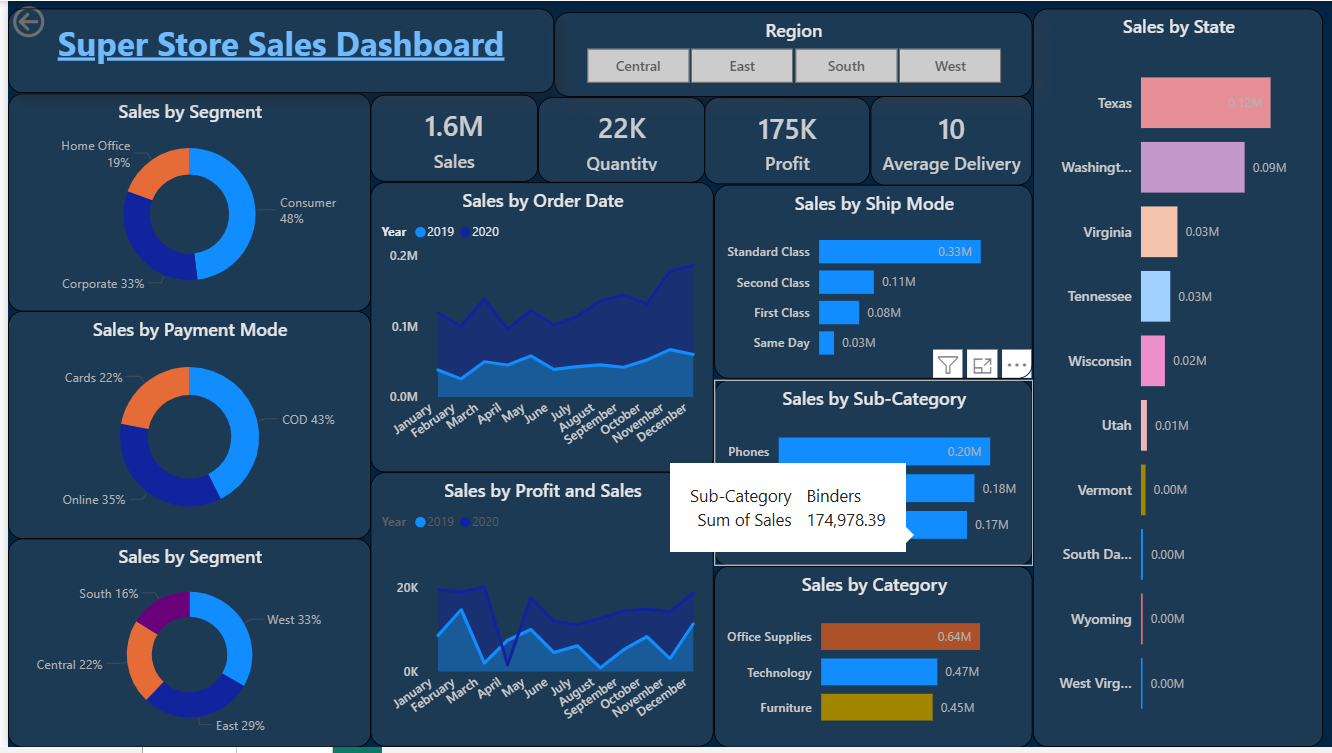

The page's visual inventory and layout, read from the dashboard file:
{"tool":"powerbi","page":{"name":"Page 1","canvas":[1280,720],"ordinal":0},"visuals":[{"type":"clusteredBarChart","title":"Sales by Category","fields":{"Category":["SuperStore_Sales_Dataset.Category"],"Y":["Sum(SuperStore_Sales_Dataset.Sales)"]},"box":[681.2,545,307.5,175],"z":0},{"type":"clusteredBarChart","title":"Sales by Sub-Category","fields":{"Y":["Sum(SuperStore_Sales_Dataset.Sales)"],"Category":["SuperStore_Sales_Dataset.Sub-Category"]},"box":[681.2,365,307.5,180],"z":1000},{"type":"clusteredBarChart","title":"Sales by Ship Mode","fields":{"Y":["Sum(SuperStore_Sales_Dataset.Sales)"],"Category":["SuperStore_Sales_Dataset.Ship Mode"]},"box":[681.2,177.5,307.5,187.5],"z":2000},{"type":"stackedAreaChart","title":"Sales by Order Date","fields":{"Y":["Sum(SuperStore_Sales_Dataset.Sales)"],"Category":["SuperStore_Sales_Dataset.Order Date.Variation.Date Hierarchy.Month"],"Series":["SuperStore_Sales_Dataset.Order Date.Variation.Date Hierarchy.Year"]},"box":[350,175,331.2,280],"z":3000},{"type":"stackedAreaChart","title":"Sales by Profit and Sales","fields":{"Y":["Sum(SuperStore_Sales_Dataset.Profit)"],"Category":["SuperStore_Sales_Dataset.Order Date.Variation.Date Hierarchy.Month","SuperStore_Sales_Dataset.Order Date.Variation.Date Hierarchy.Day"],"Series":["SuperStore_Sales_Dataset.Order Date.Variation.Date Hierarchy.Year"]},"box":[350,455,331.2,265],"z":4000},{"type":"actionButton","box":[0,0,100,40],"z":5000},{"type":"donutChart","title":"Sales by Segment","fields":{"Category":["SuperStore_Sales_Dataset.Segment"],"Y":["Sum(SuperStore_Sales_Dataset.Sales)"]},"box":[0,88.8,350,210],"z":6000},{"type":"donutChart","title":"Sales by Payment Mode","fields":{"Category":["SuperStore_Sales_Dataset.Payment Mode"],"Y":["Sum(SuperStore_Sales_Dataset.Sales)"]},"box":[0,298.8,350,220],"z":7000},{"type":"donutChart","title":"Sales by Segment","fields":{"Y":["Sum(SuperStore_Sales_Dataset.Sales)"],"Category":["SuperStore_Sales_Dataset.Region"]},"box":[0,518.8,350,201.2],"z":8000},{"type":"slicer","title":"Region","fields":{"Values":["SuperStore_Sales_Dataset.Region"]},"box":[527.5,11.2,461.2,81.2],"z":9000},{"type":"textbox","box":[0,7.5,527.5,81.2],"z":10000},{"type":"card","fields":{"Values":["Sum(SuperStore_Sales_Dataset.Sales)"]},"box":[350,90,161.2,83.8],"z":11000},{"type":"card","fields":{"Values":["Sum(SuperStore_Sales_Dataset.Quantity)"]},"box":[511.2,92.5,161.2,82.5],"z":12000},{"type":"card","fields":{"Values":["Sum(SuperStore_Sales_Dataset.Profit)"]},"box":[672.5,92.5,160,83.8],"z":13000},{"type":"card","fields":{"Values":["Avg(SuperStore_Sales_Dataset.AvgDelivery)"]},"box":[832.5,91.2,156.2,86.2],"z":14000},{"type":"clusteredBarChart","title":"Sales by State","fields":{"Y":["Sum(SuperStore_Sales_Dataset.Sales)"],"Category":["SuperStore_Sales_Dataset.State"]},"box":[988.8,7.5,280,712.5],"z":15000}]}

Visuals, with their boxes in screenshot pixels (x1, y1, x2, y2), scaled from the page's 1280x720 canvas onto the 1332x753 screenshot:
"Sales by Category" clusteredBarChart: x1=709, y1=570, x2=1029, y2=752
"Sales by Sub-Category" clusteredBarChart: x1=709, y1=382, x2=1029, y2=570
"Sales by Ship Mode" clusteredBarChart: x1=709, y1=186, x2=1029, y2=382
"Sales by Order Date" stackedAreaChart: x1=364, y1=183, x2=709, y2=476
"Sales by Profit and Sales" stackedAreaChart: x1=364, y1=476, x2=709, y2=752
actionButton: x1=0, y1=0, x2=104, y2=42
"Sales by Segment" donutChart: x1=0, y1=93, x2=364, y2=312
"Sales by Payment Mode" donutChart: x1=0, y1=312, x2=364, y2=543
"Sales by Segment" donutChart: x1=0, y1=543, x2=364, y2=752
"Region" slicer: x1=549, y1=12, x2=1029, y2=97
textbox: x1=0, y1=8, x2=549, y2=93
card - Sum(SuperStore_Sales_Dataset.Sales): x1=364, y1=94, x2=532, y2=182
card - Sum(SuperStore_Sales_Dataset.Quantity): x1=532, y1=97, x2=700, y2=183
card - Sum(SuperStore_Sales_Dataset.Profit): x1=700, y1=97, x2=866, y2=184
card - Avg(SuperStore_Sales_Dataset.AvgDelivery): x1=866, y1=95, x2=1029, y2=186
"Sales by State" clusteredBarChart: x1=1029, y1=8, x2=1320, y2=752
